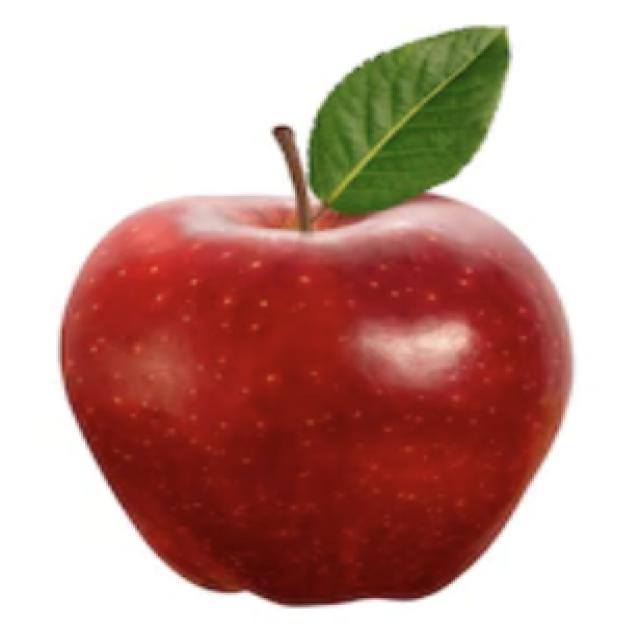Fresh Apple: (85, 180, 572, 620)
